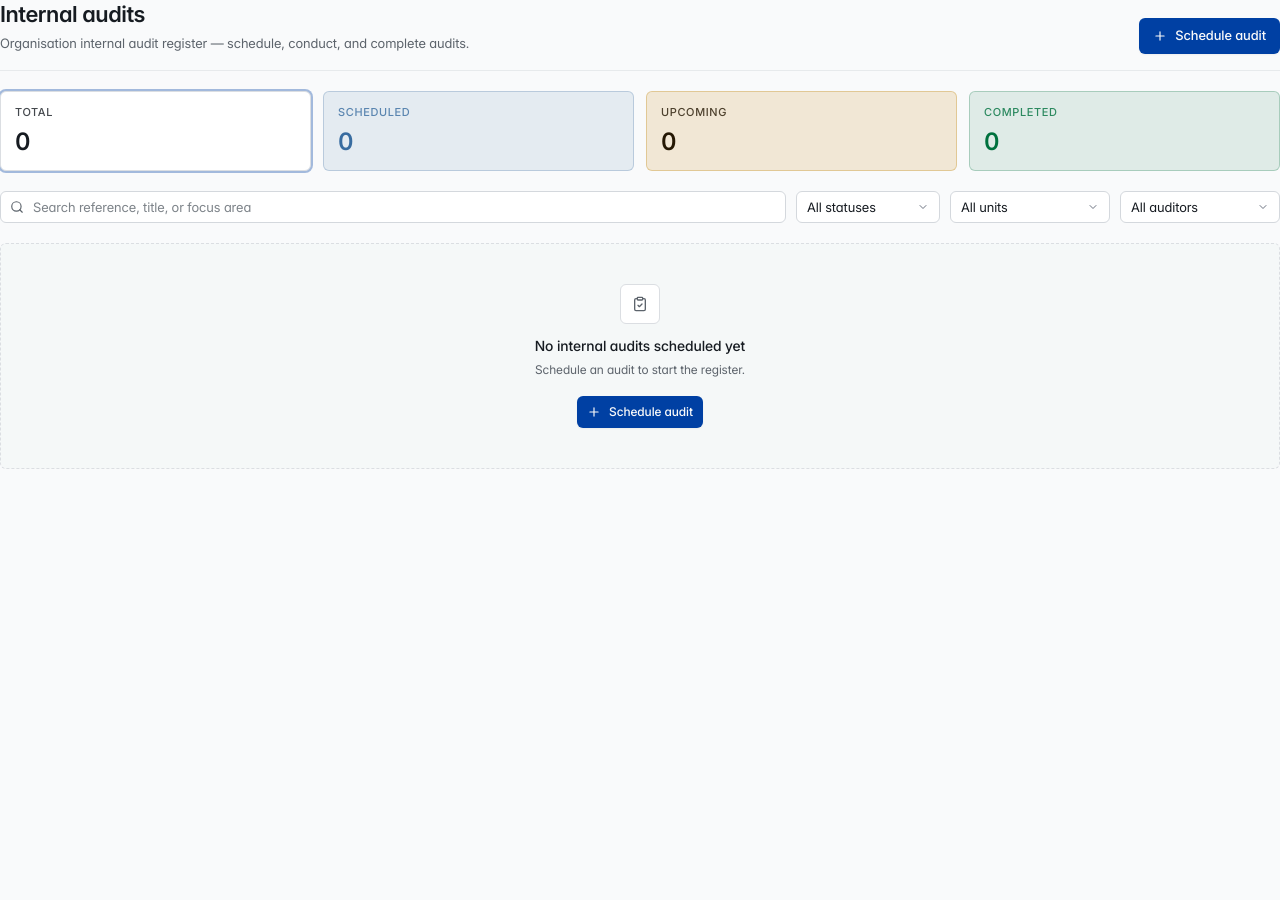
Test: InternalAuditsListPage › opens schedule sheet from Schedule audit
Expected: the text "No internal audits scheduled yet" is shown, [535,336,745,356]
Click the 1st button "Schedule audit": (1210, 36) [1139,18,1279,54]
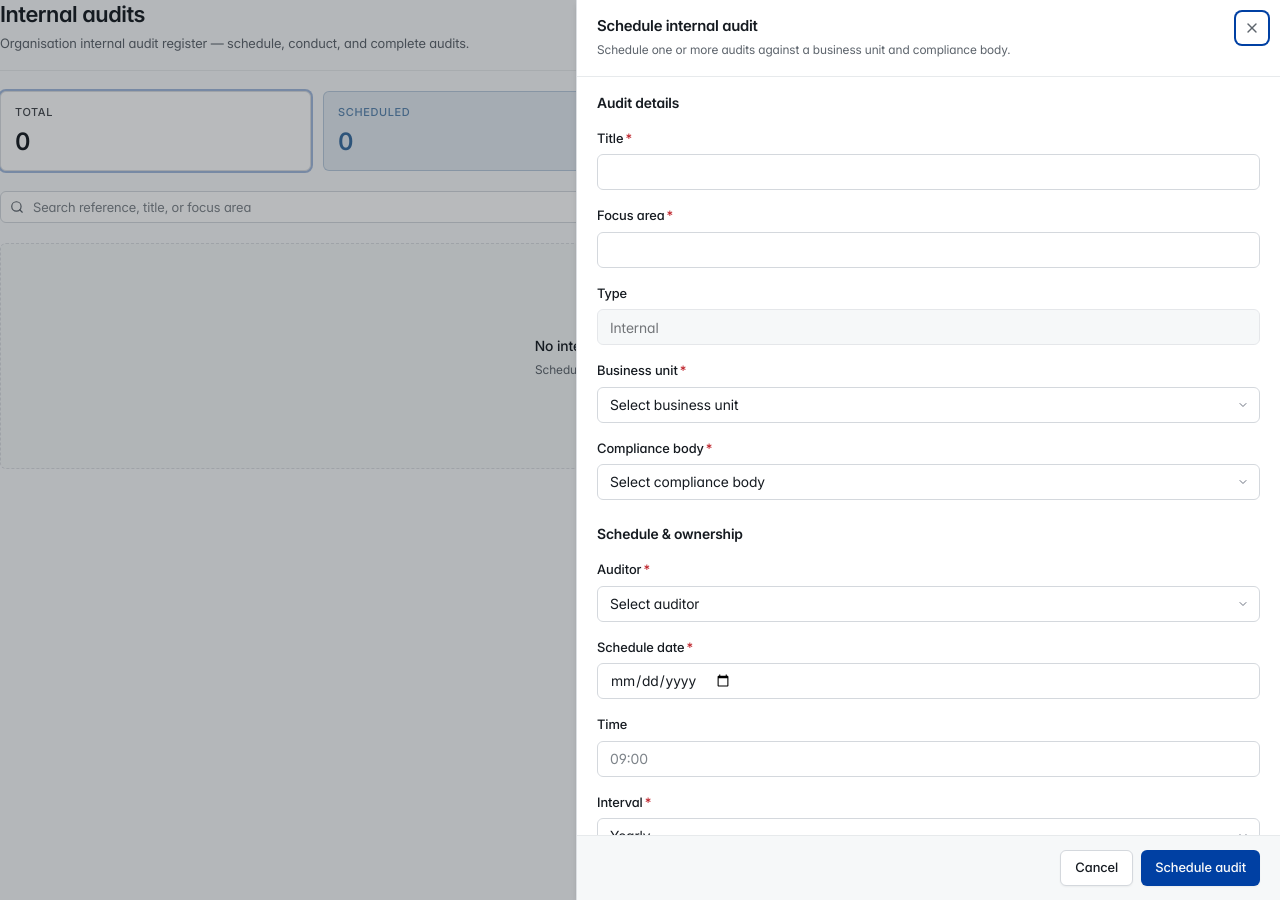
Now the heading "Schedule internal audit" is shown, box [597,16,758,35]
